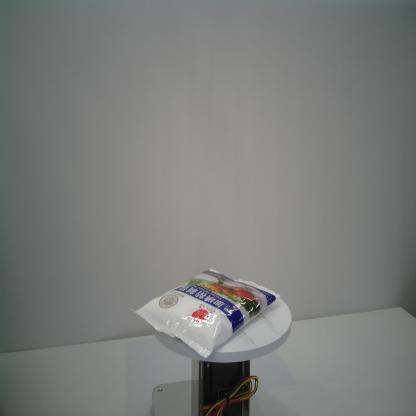Seasoner: (128, 267, 281, 358)
